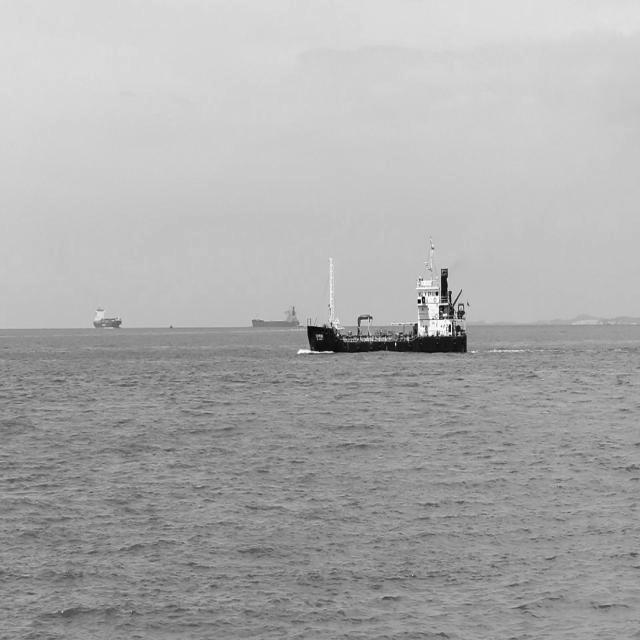ship: (304, 231, 470, 355), (252, 300, 302, 330), (92, 301, 124, 329), (330, 312, 345, 328)
